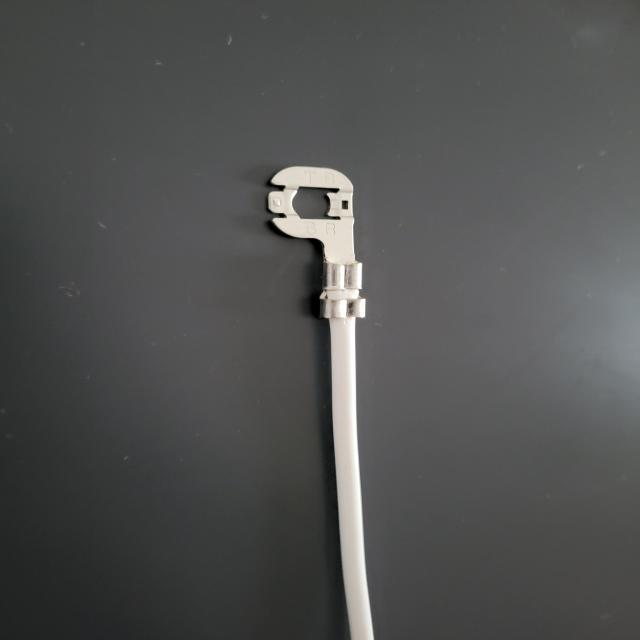defect: (297, 260, 434, 336)
